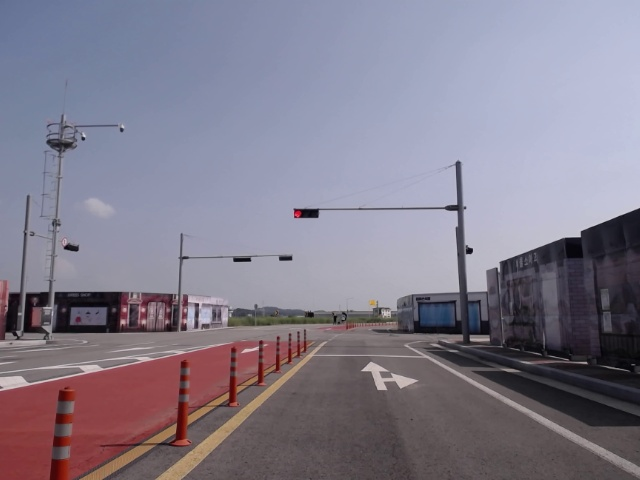red_3: (294, 209, 318, 218)
